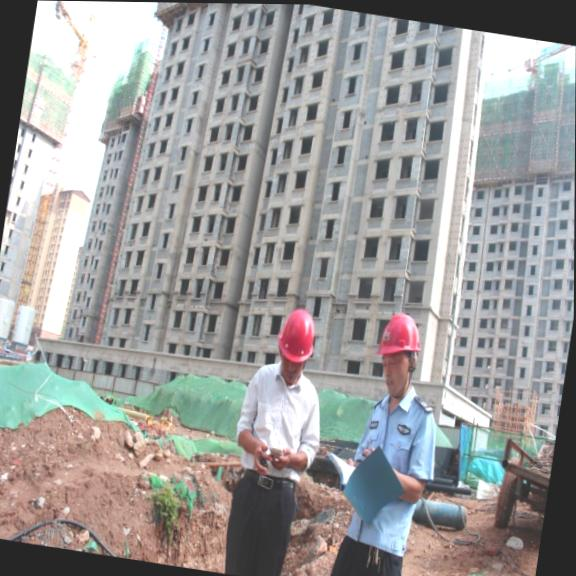no_safety_vest: (352, 389, 434, 532), (244, 364, 314, 476)
